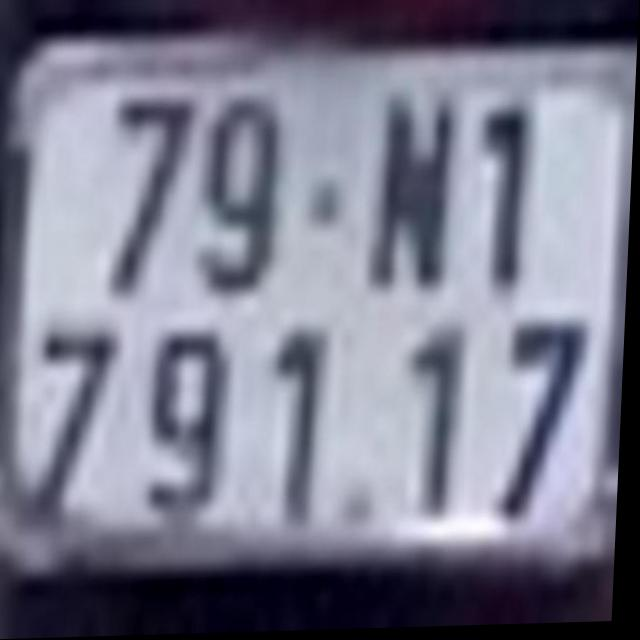1: (270, 325, 340, 534), (407, 319, 477, 526), (484, 102, 537, 295)
7: (95, 79, 197, 301), (18, 321, 130, 522), (496, 316, 591, 527)
9: (197, 80, 282, 303), (146, 333, 227, 519)
N: (373, 95, 464, 296)
